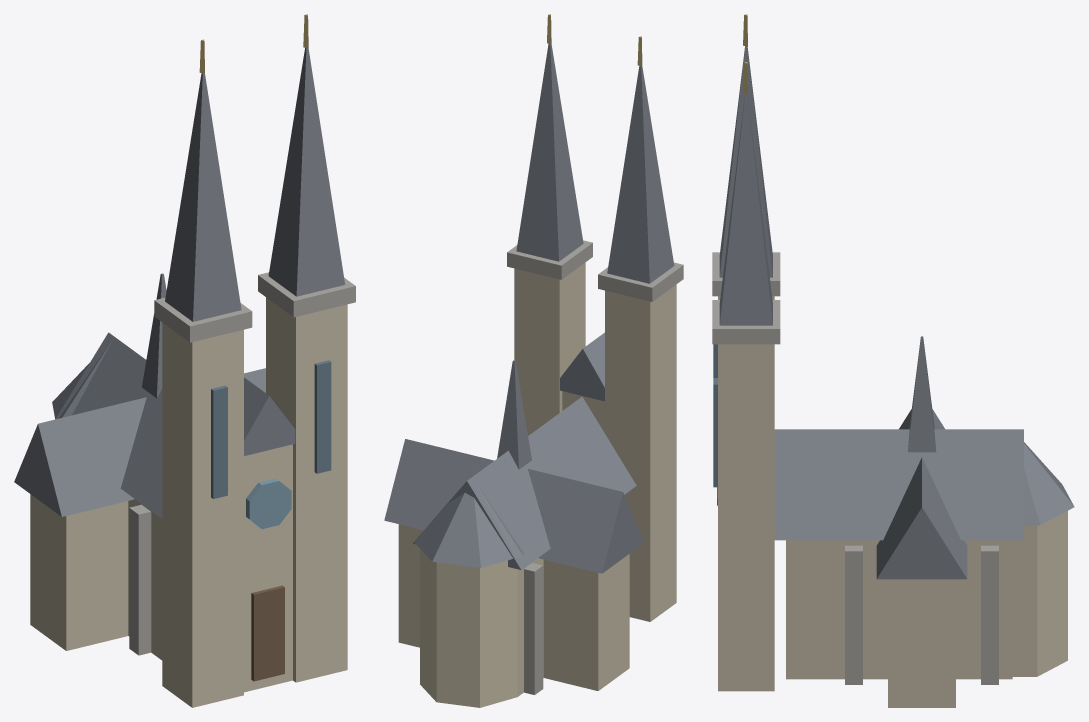
Rendered from cathedral.glb.
3 views of the same model, side by side, from view 1: azimuth 30°, elevation 25°; view 2: azimuth 150°, elevation 25°; view 3: azimuth 270°, elevation 25° (orthographic). The views are drawn at different scales.
Parts seen in each view (by area): view 1: LOD0; view 2: LOD0; view 3: LOD0.
Part boxes in pixels (<box>): LOD0: <box>14,14,355,707</box>; LOD0: <box>384,14,683,707</box>; LOD0: <box>712,14,1074,707</box>.
Size of what is drawn, in the model's own units: 0.24 by 0.6 by 0.3196.
